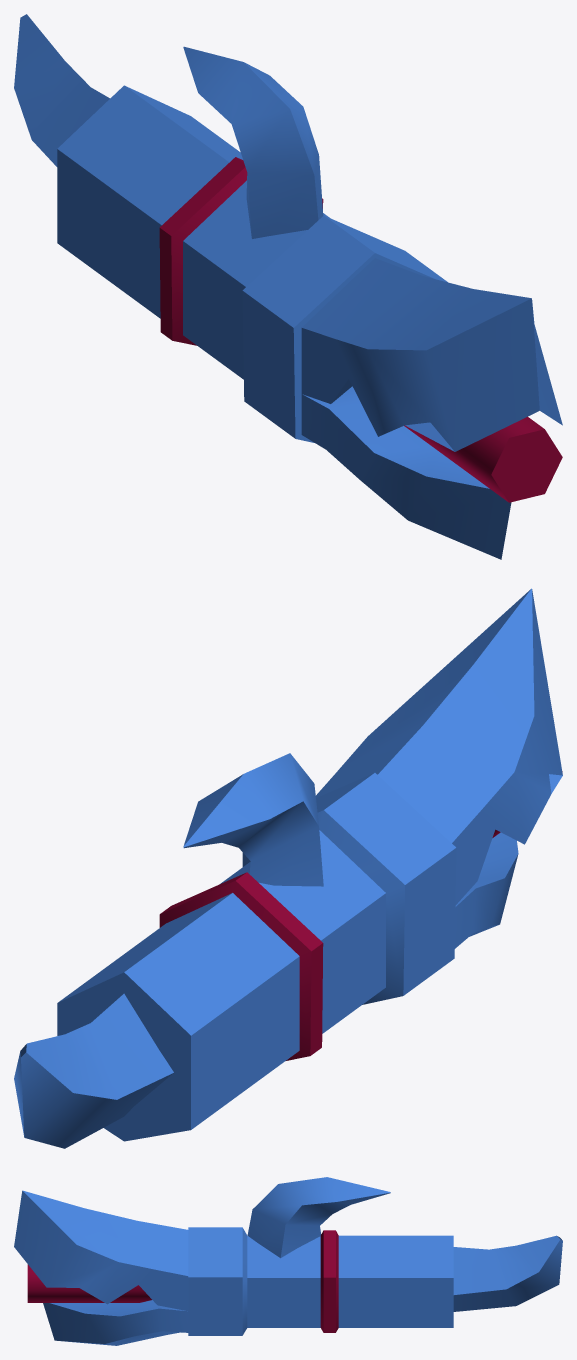
The model's file is gun09.fbx.
3 views of the same model, one above another, from view 1: azimuth 30°, elevation 25°; view 2: azimuth 150°, elevation 25°; view 3: azimuth 270°, elevation 25° (orthographic). The views are drawn at different scales.
Parts seen in each view (by area): view 1: gun09; view 2: gun09; view 3: gun09.
Part boxes in pixels (x1=…): gun09: x1=14, y1=14, x2=562, y2=559; gun09: x1=14, y1=588, x2=562, y2=1148; gun09: x1=14, y1=1177, x2=562, y2=1345.
Bounding box in the file's own units: 41.39 × 77.63 × 229.
